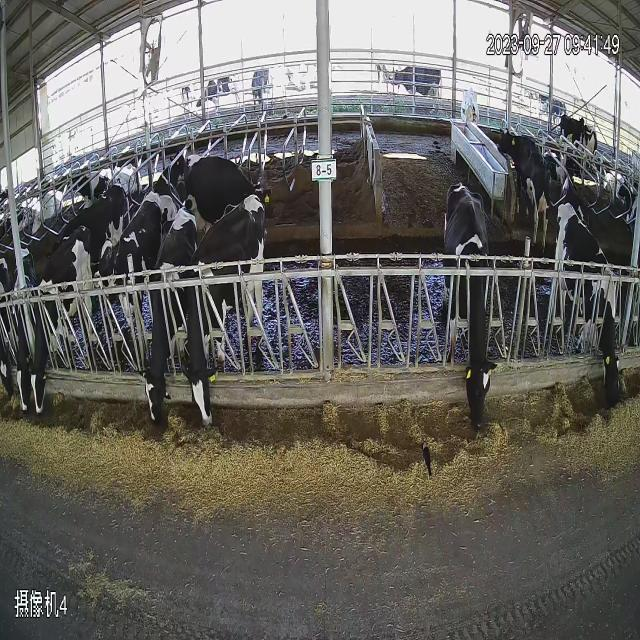feeding: (554, 175, 630, 418), (187, 201, 266, 432), (436, 168, 499, 438), (1, 206, 78, 426), (147, 216, 189, 450)
lying down: (90, 136, 152, 208), (546, 128, 590, 222), (599, 154, 640, 235), (154, 134, 188, 216)
standing: (89, 164, 158, 385), (92, 162, 158, 360), (498, 109, 559, 248), (179, 130, 262, 226), (495, 92, 552, 224), (48, 186, 147, 253), (182, 140, 262, 222), (371, 46, 446, 120), (185, 72, 284, 125), (451, 42, 487, 165), (458, 67, 482, 145), (556, 99, 584, 161), (583, 102, 607, 168)
